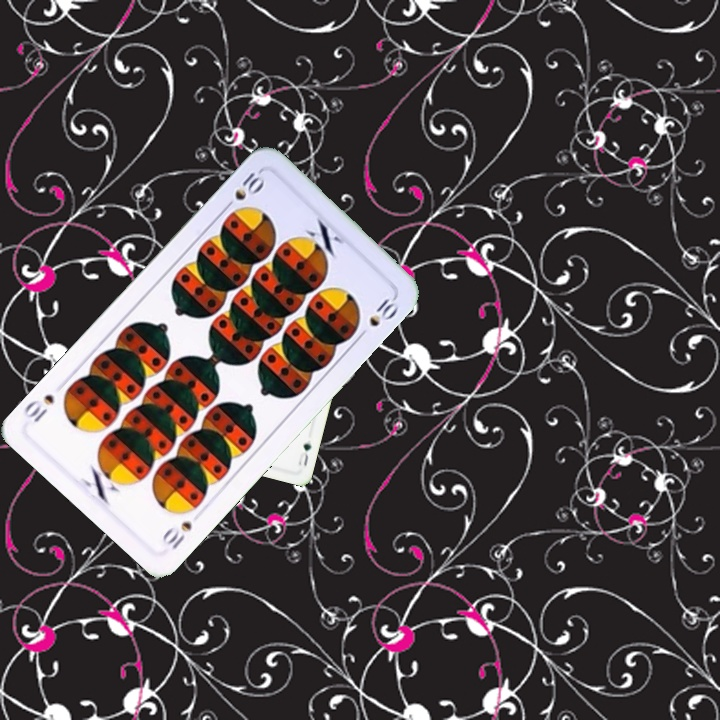GU: (294, 439, 314, 469)
S10: (219, 166, 268, 214), (158, 517, 195, 552)
